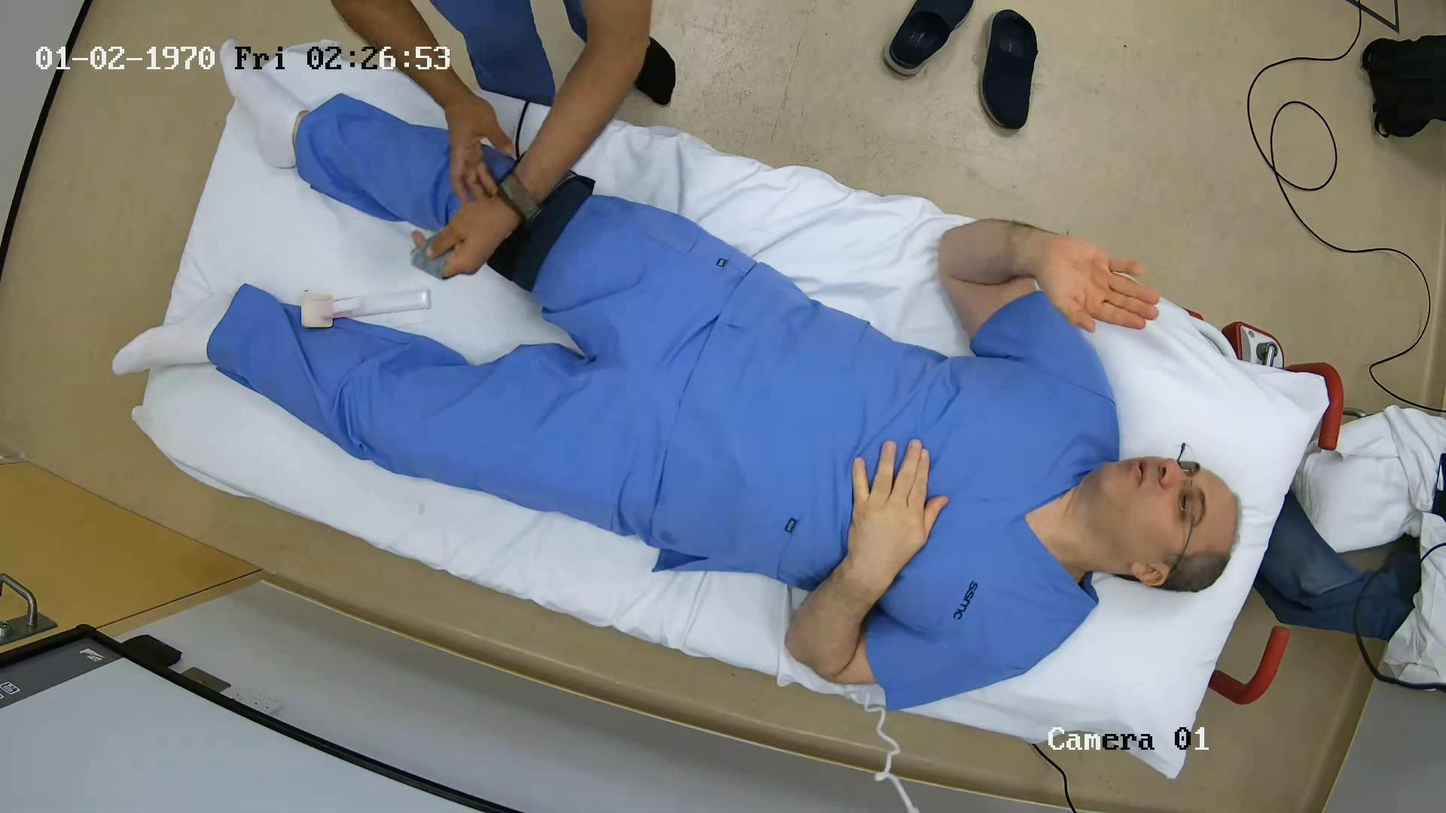bed: (133, 62, 1343, 783)
patient: (206, 95, 1240, 708)
prepstick: (489, 176, 593, 291), (301, 289, 431, 327)
